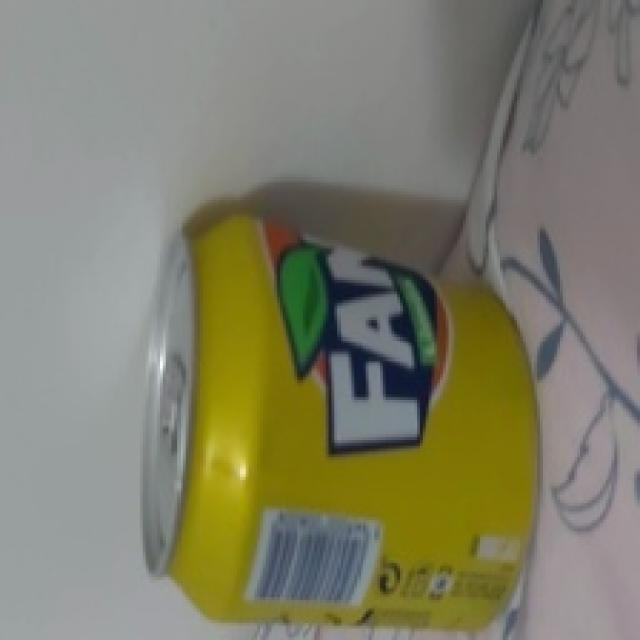recyclable: (135, 212, 542, 633)
